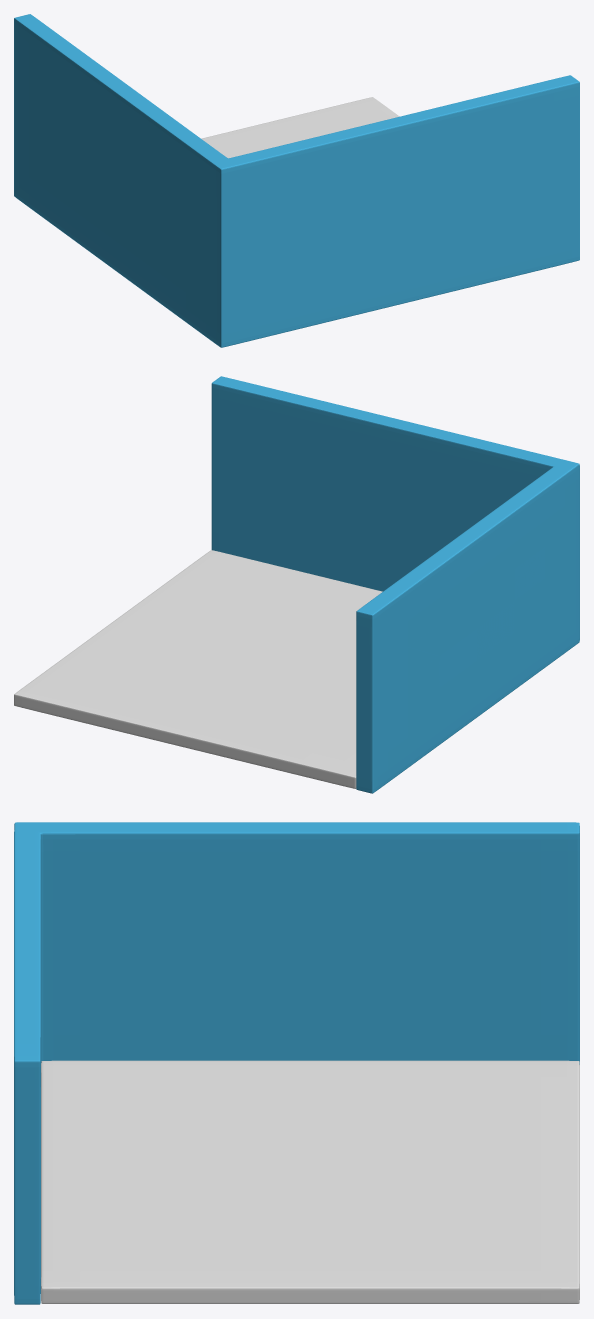
The model's file is base_library.fbx.
3 views of the same model, one above another, from view 1: azimuth 30°, elevation 25°; view 2: azimuth 150°, elevation 25°; view 3: azimuth 270°, elevation 25° (orthographic). The views are drawn at different scales.
Visible parts, largest first — view 1: Cube.033, Cube.034; view 2: Cube.033, Cube.034; view 3: Cube.033, Cube.034.
Boxes of the visible parts, left/top/right/bottom form: Cube.033: left=14, top=14, right=579, bottom=347; Cube.034: left=201, top=97, right=399, bottom=158; Cube.033: left=211, top=376, right=579, bottom=793; Cube.034: left=14, top=550, right=382, bottom=788; Cube.033: left=14, top=822, right=579, bottom=1304; Cube.034: left=41, top=1060, right=579, bottom=1303.
Bounding box in the file's own units: 2100 × 1000 × 2100.
